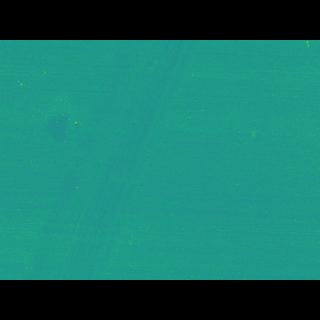Loch: (23, 70, 198, 249), (36, 117, 80, 149)
